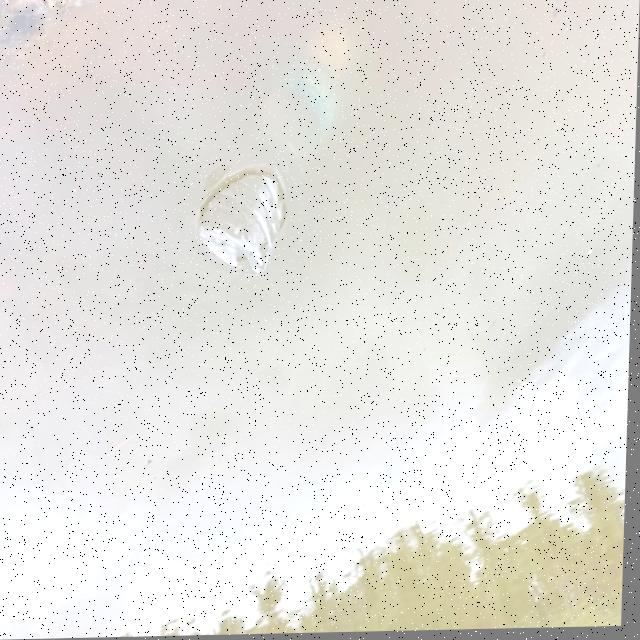waterbottle: (189, 17, 356, 275)
